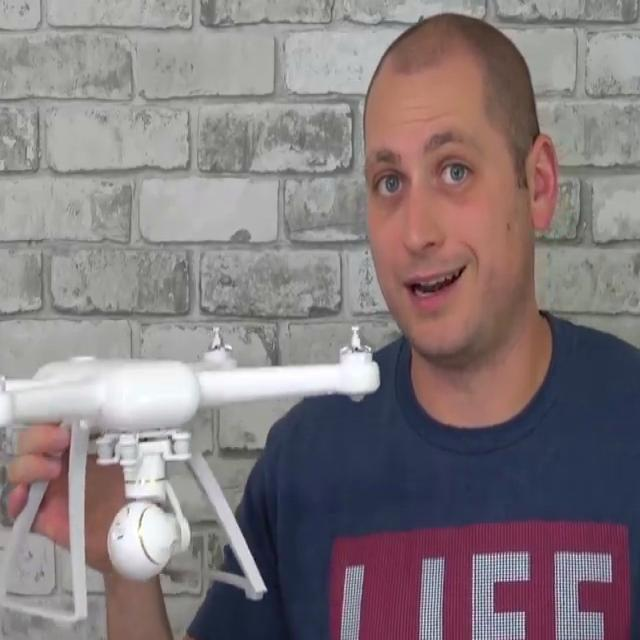drone: (0, 312, 379, 453)
